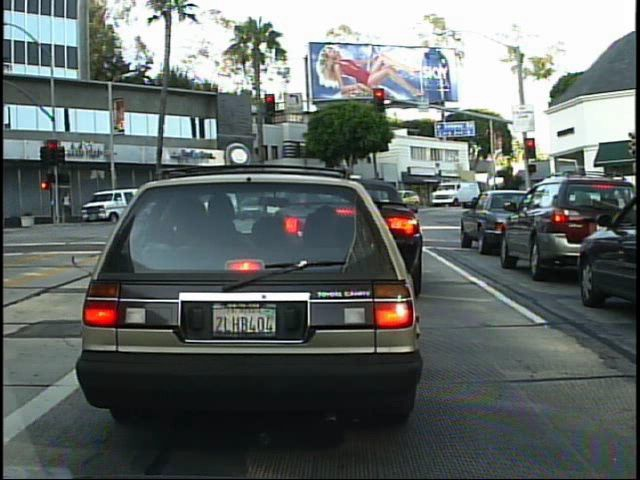person: (62, 190, 74, 226)
